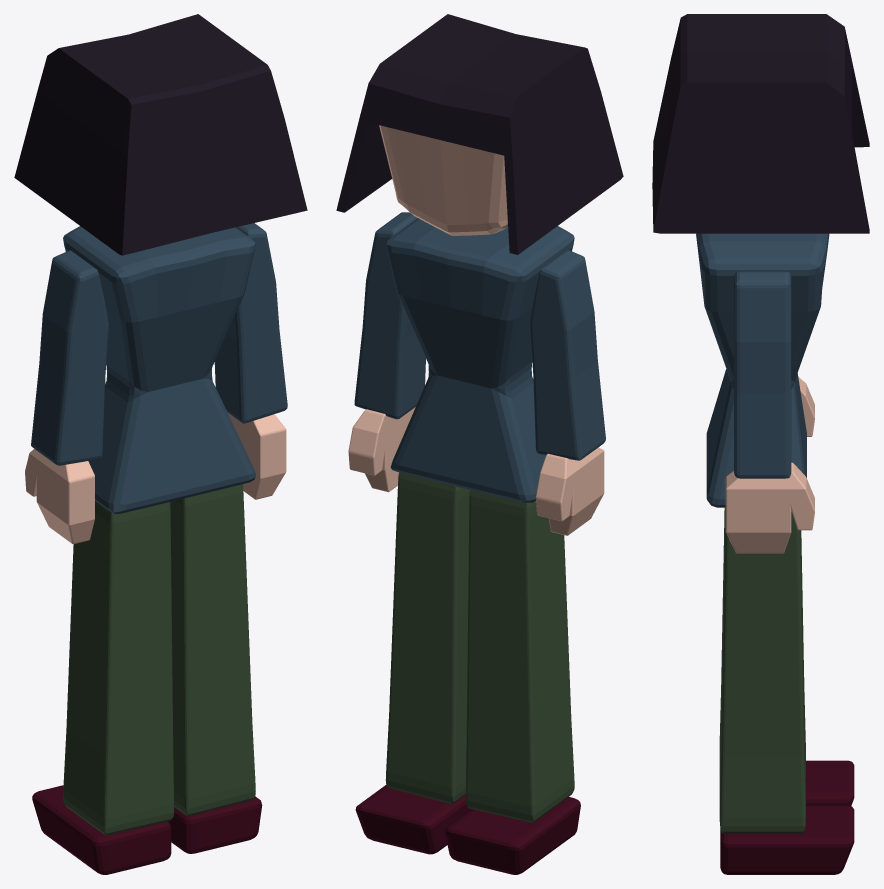
The picture shows the model from 3 angles, left to right: view 1: azimuth 30°, elevation 25°; view 2: azimuth 150°, elevation 25°; view 3: azimuth 270°, elevation 25°; orthographic projection. The views are drawn at different scales.
Visible parts, largest first — view 1: E4_Pelo; view 2: E4_Pelo; view 3: E4_Pelo.
Boxes of the visible parts, x1=… form: E4_Pelo: x1=14, y1=14, x2=307, y2=874; E4_Pelo: x1=336, y1=14, x2=623, y2=874; E4_Pelo: x1=652, y1=14, x2=869, y2=874.
Size of the model in its own units: 210 by 684 by 170.
